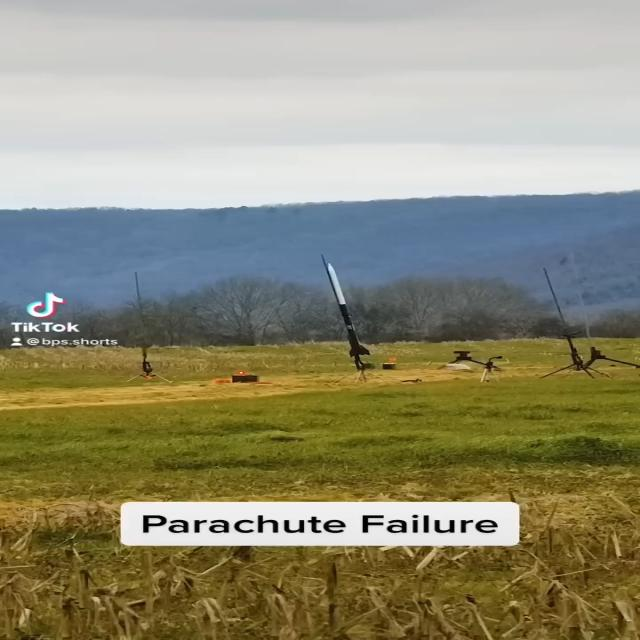missile: (322, 262, 375, 358)
